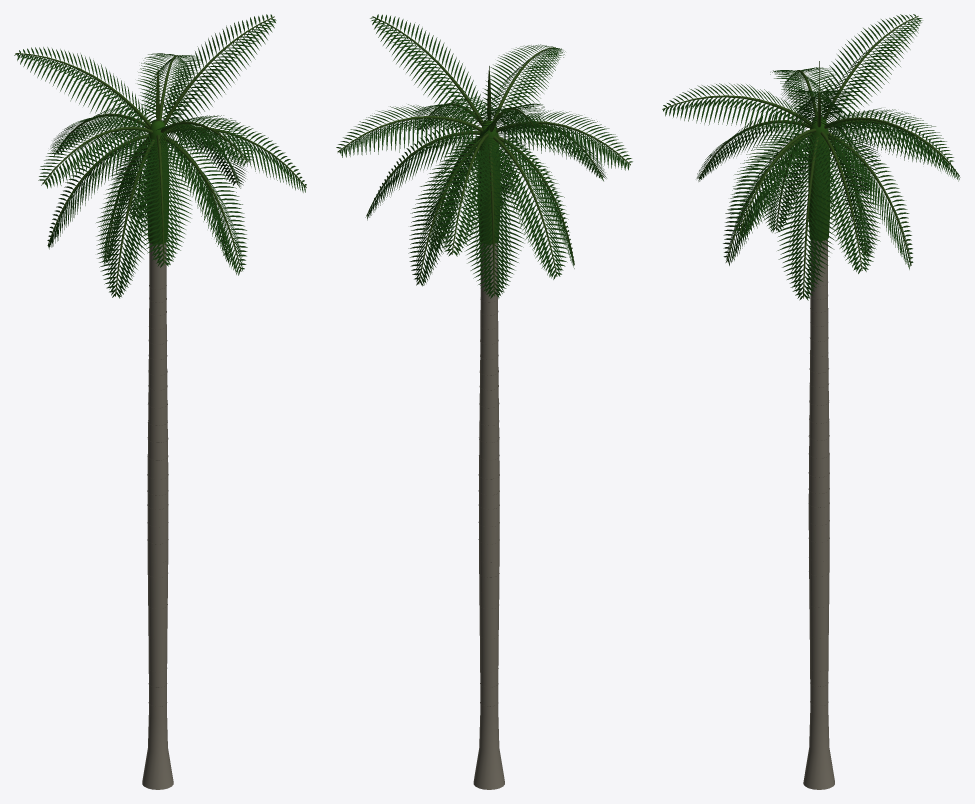
The model's file is royal_palm.glb.
The picture shows the model from 3 angles, left to right: view 1: azimuth 30°, elevation 25°; view 2: azimuth 150°, elevation 25°; view 3: azimuth 270°, elevation 25°; orthographic projection.
Parts seen in each view (by area): view 1: Leaflets, Trunk, Fronds (rachises), Crownshaft; view 2: Leaflets, Trunk, Fronds (rachises), Crownshaft; view 3: Leaflets, Trunk, Fronds (rachises), Crownshaft.
Boxes of the visible parts, x1,y1,x2,y2 form: Leaflets: (14, 14, 306, 298); Trunk: (142, 242, 173, 789); Fronds (rachises): (15, 16, 306, 296); Crownshaft: (147, 120, 168, 244); Leaflets: (336, 14, 632, 298); Trunk: (473, 243, 504, 789); Fronds (rachises): (337, 16, 630, 296); Crownshaft: (478, 120, 500, 244); Leaflets: (663, 14, 960, 300); Trunk: (803, 239, 834, 789); Fronds (rachises): (662, 16, 959, 298); Crownshaft: (808, 116, 830, 240).
Size of the model in its own units: 6.67 by 19.19 by 7.
Materials: 5 (5 with a texture image).
